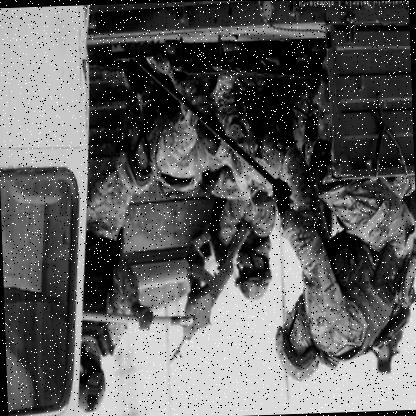rifle: (160, 207, 257, 365), (367, 240, 397, 305)
